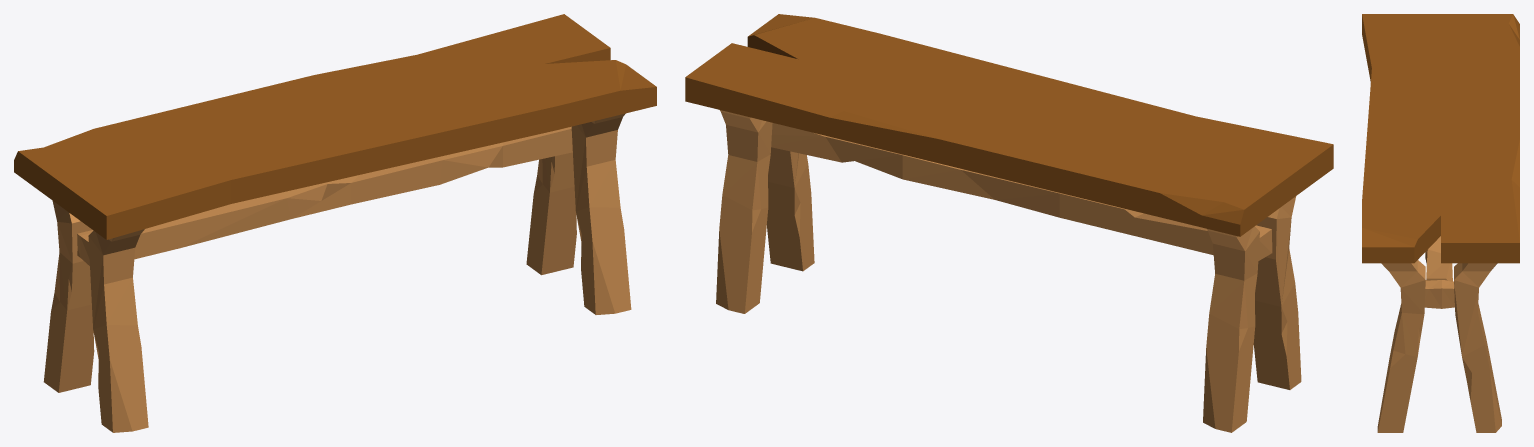
The model's file is Bench.fbx.
The picture shows the model from 3 angles, left to right: view 1: azimuth 30°, elevation 25°; view 2: azimuth 150°, elevation 25°; view 3: azimuth 270°, elevation 25°; orthographic projection. The views are drawn at different scales.
Visible parts, largest first — view 1: Skameika1, StolbNoga1, Group5, Group3, Group4, Group2; view 2: Skameika1, StolbNoga1, Group4, Group2, Group5, Group3; view 3: Skameika1, Group3, Group2, Group6, StolbNoga1.
Boxes of the visible parts, x1=… form: Skameika1: x1=14, y1=14, x2=656, y2=239; StolbNoga1: x1=134, y1=126, x2=572, y2=259; Group5: x1=88, y1=229, x2=148, y2=432; Group3: x1=571, y1=113, x2=631, y2=314; Group4: x1=43, y1=201, x2=94, y2=392; Group2: x1=526, y1=152, x2=576, y2=275; Skameika1: x1=685, y1=14, x2=1333, y2=236; StolbNoga1: x1=771, y1=123, x2=1213, y2=255; Group4: x1=1203, y1=226, x2=1259, y2=432; Group2: x1=716, y1=110, x2=772, y2=313; Group5: x1=1253, y1=196, x2=1301, y2=389; Group3: x1=767, y1=147, x2=814, y2=271; Skameika1: x1=1362, y1=14, x2=1519, y2=263; Group3: x1=1377, y1=260, x2=1425, y2=432; Group2: x1=1454, y1=263, x2=1501, y2=432; Group6: x1=1424, y1=280, x2=1454, y2=308; StolbNoga1: x1=1425, y1=236, x2=1452, y2=281.
Size of the model in its own units: 1200 by 481 by 350.
